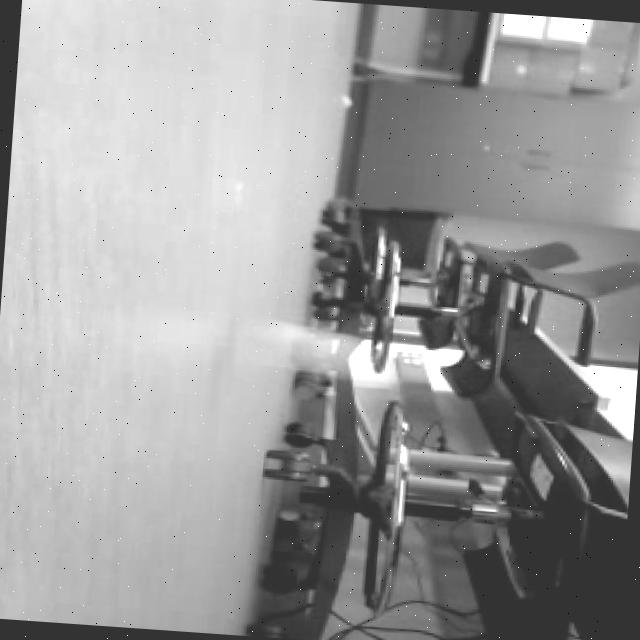ping-pong-ball: (280, 324, 346, 382)
